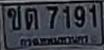1: (88, 4, 96, 26), (62, 5, 69, 28)
7: (46, 6, 57, 28)
9: (73, 5, 84, 27)
A10: (7, 5, 21, 30)
A21: (24, 7, 38, 29)
